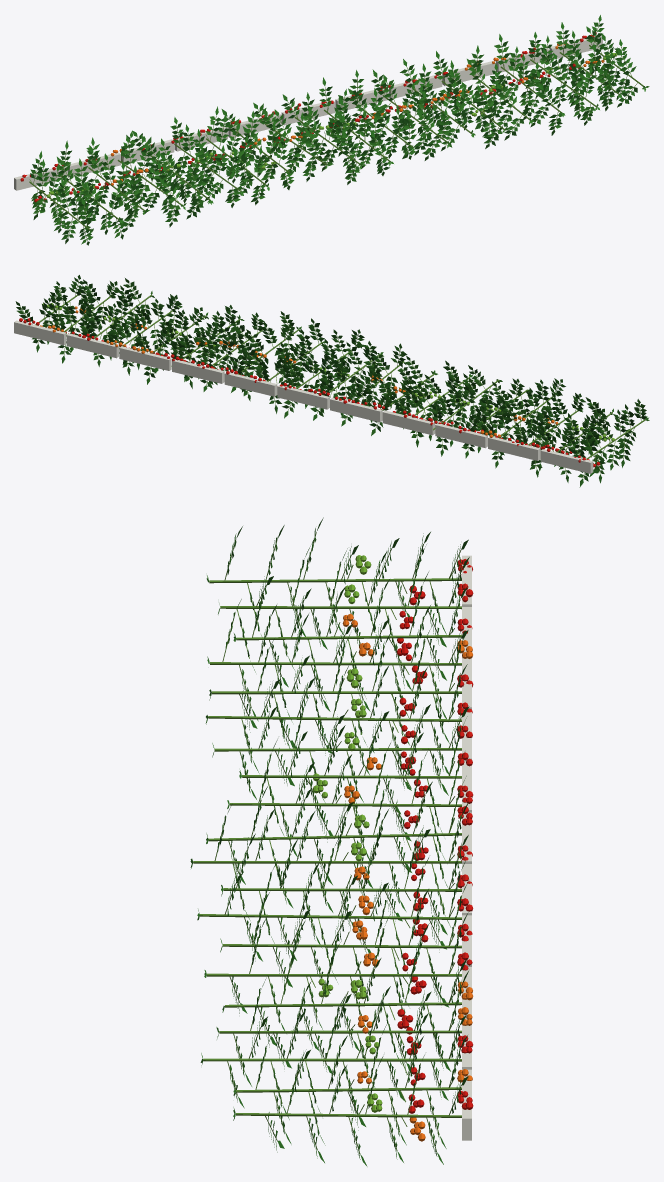
File: row13.obj
The picture shows the model from 3 angles, top to bottom: view 1: azimuth 30°, elevation 25°; view 2: azimuth 150°, elevation 25°; view 3: azimuth 270°, elevation 25°; orthographic projection. The views are drawn at different scales.
Parts seen in each view (by area): view 1: row13; view 2: row13; view 3: row13.
Part boxes in pixels (left/top/right/bottom): row13: left=14, top=15, right=649, bottom=245; row13: left=14, top=275, right=649, bottom=487; row13: left=190, top=517, right=473, bottom=1166.
Size of the model in its own units: 10.97 by 1.16 by 2.33.
